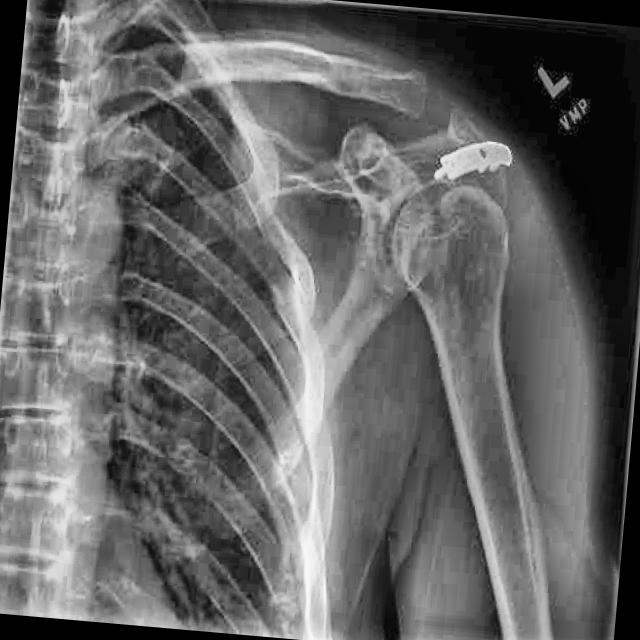shoulder fracture: (406, 171, 478, 312)
